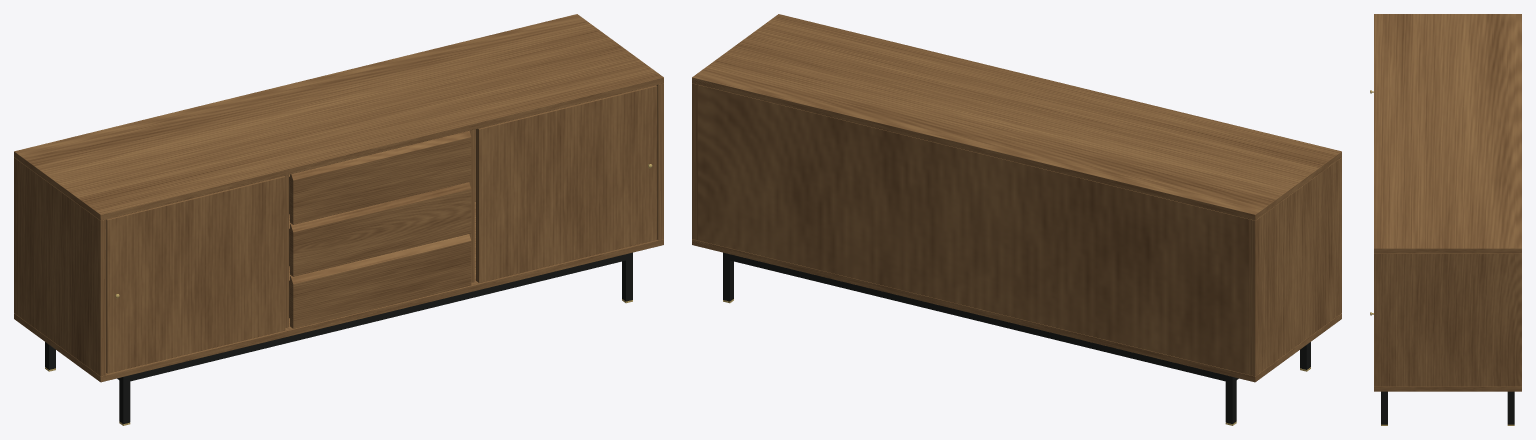
The model's file is walnut_sideboard.glb.
The picture shows the model from 3 angles, left to right: view 1: azimuth 30°, elevation 25°; view 2: azimuth 150°, elevation 25°; view 3: azimuth 270°, elevation 25°; orthographic projection. The views are drawn at different scales.
Visible parts, largest first — view 1: Top_Panel, Right_Door_Vertical_Grain, Left_Door_Vertical_Grain, Left_Side_Panel, Drawer_01_Front_Horizontal_Grain, Drawer_02_Front_Horizontal_Grain, Drawer_03_Front_Horizontal_Grain, Bottom_Panel, Front_Black_Base_Rail, Right_Side_Panel, Right_Inner_Divider, Left_Inner_Divider; view 2: Back_Panel_Assumed_Plain_Wood, Top_Panel, Left_Side_Panel, Bottom_Panel, Rear_Black_Base_Rail, Right_Side_Panel; view 3: Top_Panel, Right_Side_Panel, Bottom_Panel, Rear_Right_Black_Leg, Front_Right_Black_Leg.
Boxes of the visible parts, box(x1,y1,x2,y2) form: Top_Panel: box(14, 14, 663, 220); Right_Door_Vertical_Grain: box(476, 85, 657, 282); Left_Door_Vertical_Grain: box(106, 176, 285, 373); Left_Side_Panel: box(14, 157, 106, 376); Drawer_01_Front_Horizontal_Grain: box(290, 234, 471, 328); Drawer_02_Front_Horizontal_Grain: box(290, 182, 471, 276); Drawer_03_Front_Horizontal_Grain: box(290, 131, 471, 224); Bottom_Panel: box(14, 202, 663, 382); Front_Black_Base_Rail: box(127, 253, 629, 381); Right_Side_Panel: box(656, 83, 663, 240); Right_Inner_Divider: box(469, 129, 474, 282); Left_Inner_Divider: box(285, 175, 288, 327); Back_Panel_Assumed_Plain_Wood: box(697, 85, 1249, 374); Top_Panel: box(692, 14, 1341, 220); Left_Side_Panel: box(1249, 157, 1341, 376); Bottom_Panel: box(692, 239, 1341, 382); Rear_Black_Base_Rail: box(726, 253, 1228, 381); Right_Side_Panel: box(692, 83, 697, 240); Top_Panel: box(1374, 14, 1521, 253); Right_Side_Panel: box(1374, 253, 1521, 386); Bottom_Panel: box(1374, 386, 1521, 391); Rear_Right_Black_Leg: box(1507, 391, 1514, 424); Front_Right_Black_Leg: box(1381, 391, 1387, 424).
Bounding box in the file's own units: 1.76 × 0.661 × 0.482.
3 materials, 1 textured.
